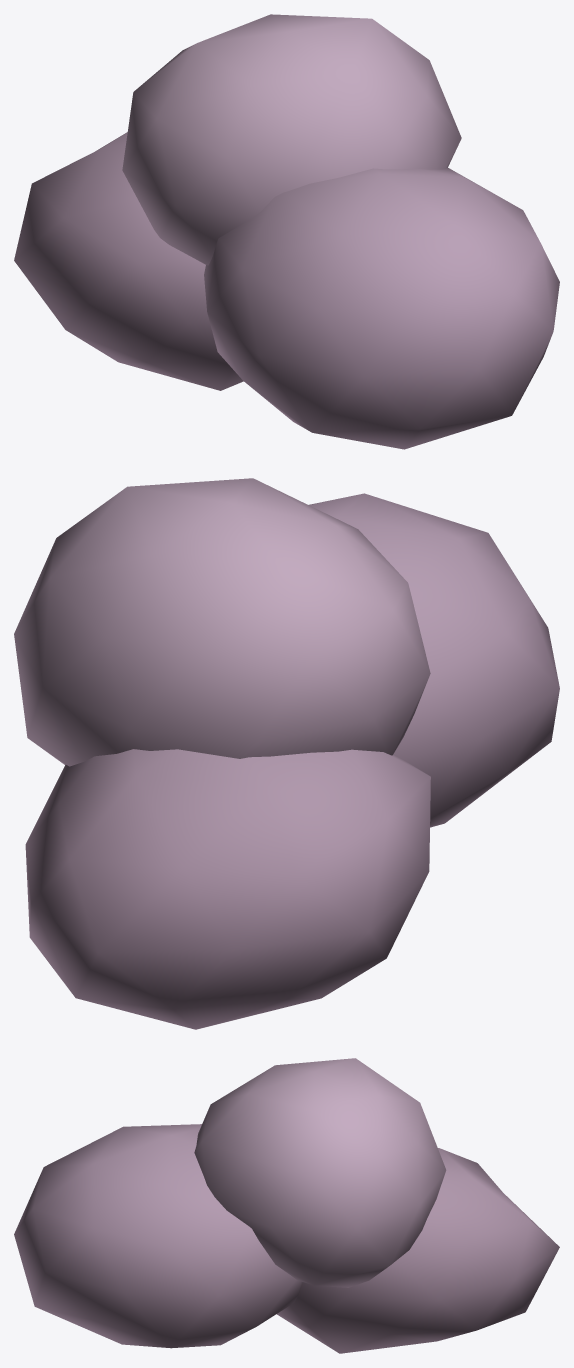
Rendered from shrub_flower.glb.
3 renders of one model, top to bottom at view 1: azimuth 30°, elevation 25°; view 2: azimuth 150°, elevation 25°; view 3: azimuth 270°, elevation 25°, orthographic. The views are drawn at different scales.
Parts seen in each view (by area): view 1: shrub_flower; view 2: shrub_flower; view 3: shrub_flower.
Boxes of the visible parts, x1,y1,x2,y2 form: shrub_flower: (14,14,559,449); shrub_flower: (14,478,559,1029); shrub_flower: (14,1058,559,1353).
Bounding box in the file's own units: 0.9691 × 0.9418 × 1.63.
